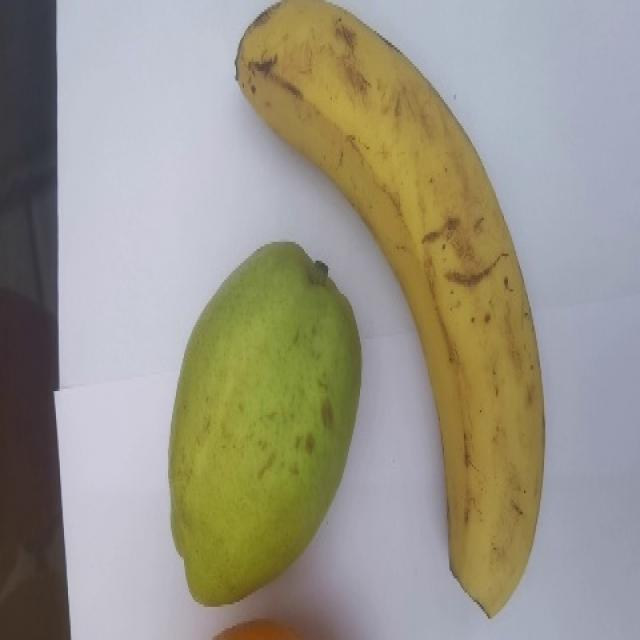Banana: (233, 0, 546, 619)
